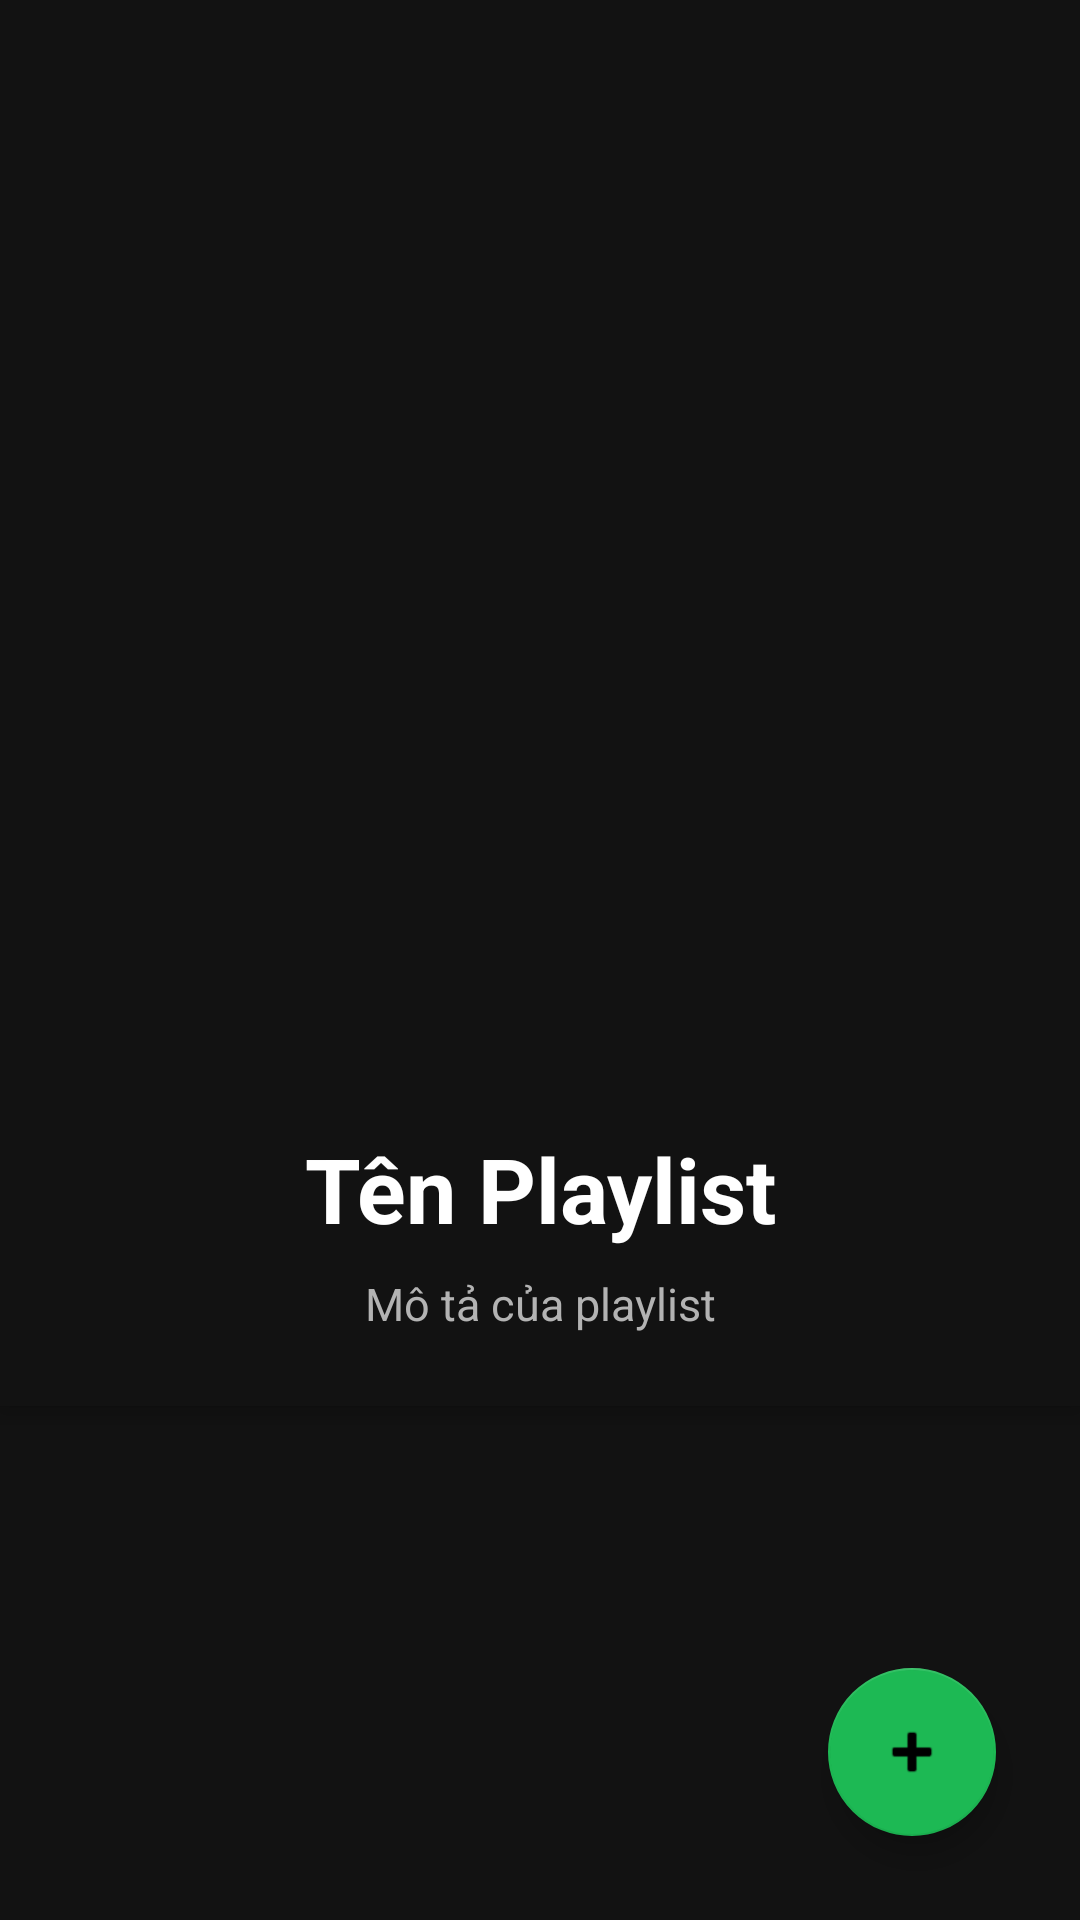

Locate icon controls on the screen. Image size 1080 × 1920, boxes as (x1, y1, x2, y2).
add: (828, 1668, 996, 1836)
